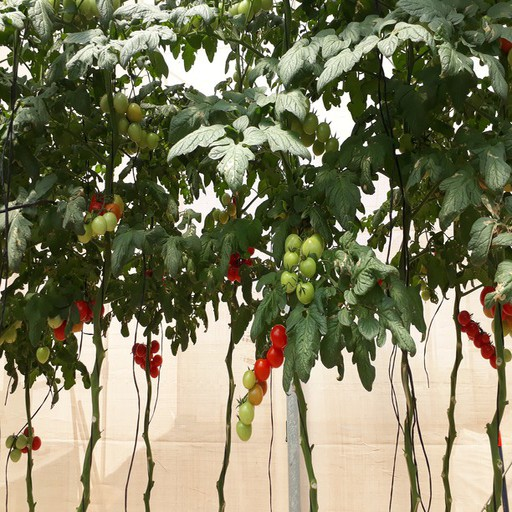green tomato bunch: (100, 91, 161, 149), (280, 231, 324, 304), (279, 112, 340, 156), (212, 188, 244, 226), (216, 1, 276, 20), (408, 275, 437, 303)
mixed tomato bunch: (238, 325, 288, 441), (36, 299, 103, 364), (77, 194, 123, 245), (7, 427, 41, 464)
red tomato bunch: (457, 311, 512, 369), (222, 242, 255, 282), (132, 342, 162, 378), (482, 287, 512, 318)
